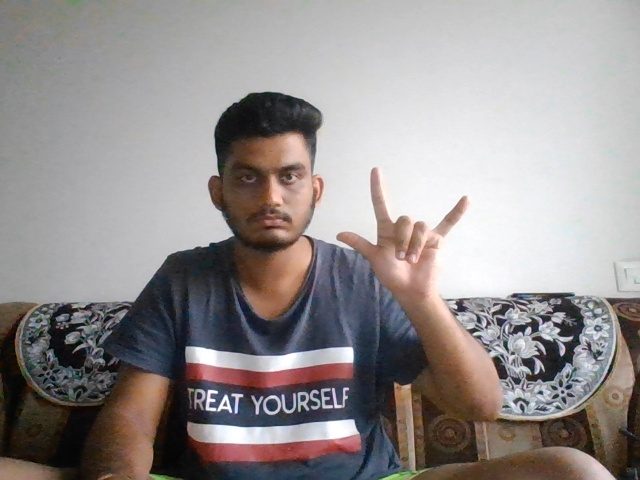I Love You: (334, 165, 477, 305)
